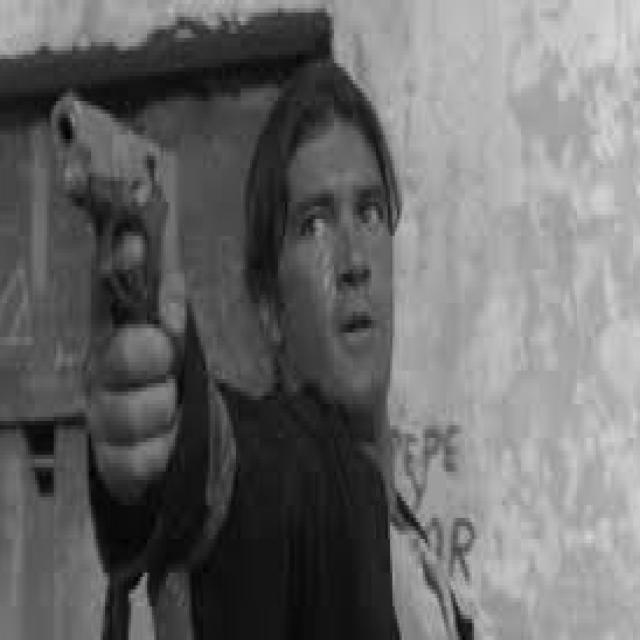gun: (44, 59, 190, 392)
